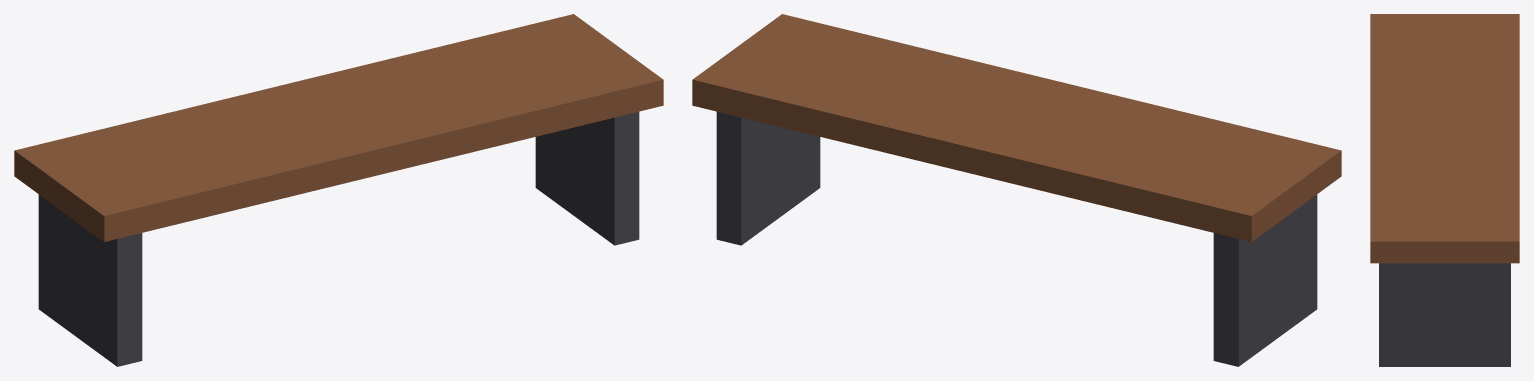
Rendered from skate_bench_83.glb.
3 renders of one model, left to right at view 1: azimuth 30°, elevation 25°; view 2: azimuth 150°, elevation 25°; view 3: azimuth 270°, elevation 25°, orthographic. The views are drawn at different scales.
Parts seen in each view (by area): view 1: Box1, Box3, Box2; view 2: Box1, Box3, Box2; view 3: Box1, Box2.
Part boxes in pixels (<box>): Box1: <box>14,14,663,241</box>; Box3: <box>38,194,142,366</box>; Box2: <box>535,111,639,245</box>; Box1: <box>692,14,1341,241</box>; Box3: <box>1213,194,1317,366</box>; Box2: <box>716,111,820,245</box>; Box1: <box>1370,14,1519,263</box>; Box2: <box>1379,263,1510,366</box>.
Bounding box in the file's own units: 1.8 × 0.49 × 0.5.
